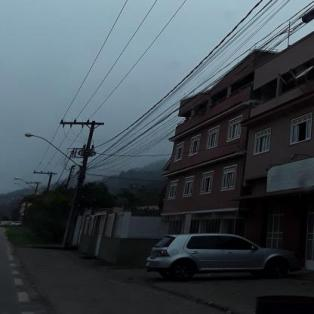Poste: (76, 118, 100, 260)
